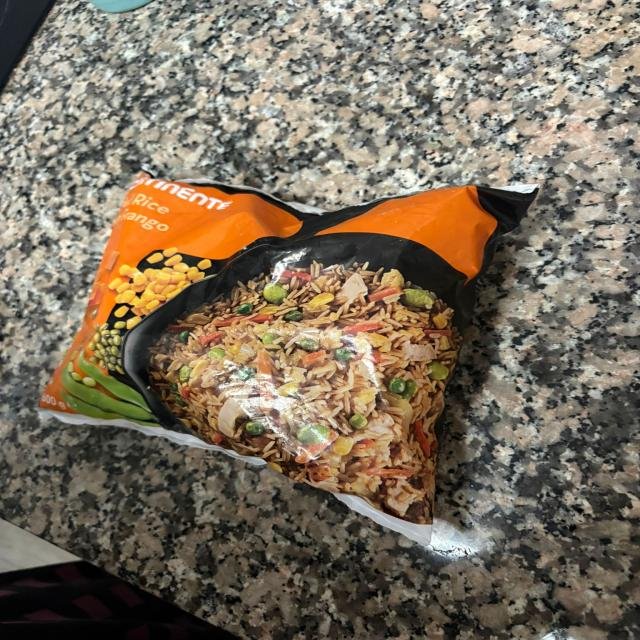good_package: (37, 164, 540, 547)
